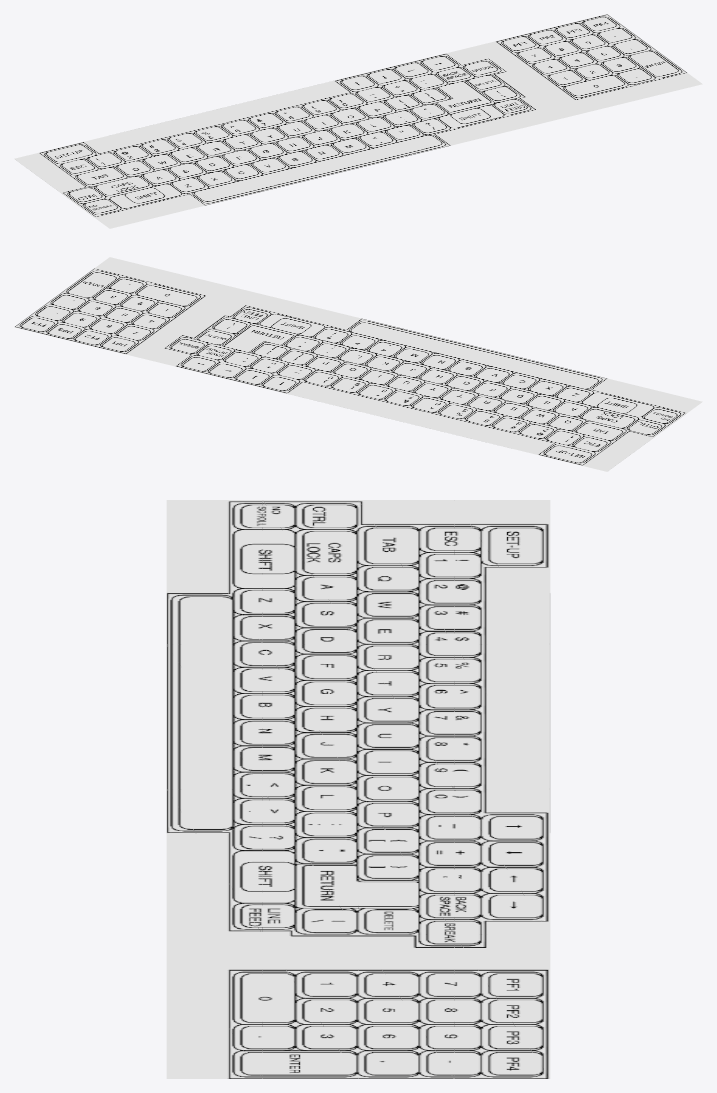
Rendered from Keyboard.FBX.
3 views of the same model, one above another, from view 1: azimuth 30°, elevation 25°; view 2: azimuth 150°, elevation 25°; view 3: azimuth 270°, elevation 25° (orthographic). The views are drawn at different scales.
Parts seen in each view (by area): view 1: Plane001; view 2: Plane001; view 3: Plane001.
Part boxes in pixels (x1,y1,x2,y2): Plane001: [14, 14, 702, 228]; Plane001: [14, 257, 702, 471]; Plane001: [166, 500, 550, 1078].
Size of the model in its own units: 12.26 by 2.1e-16 by 3.43.
1 material, 1 textured.
